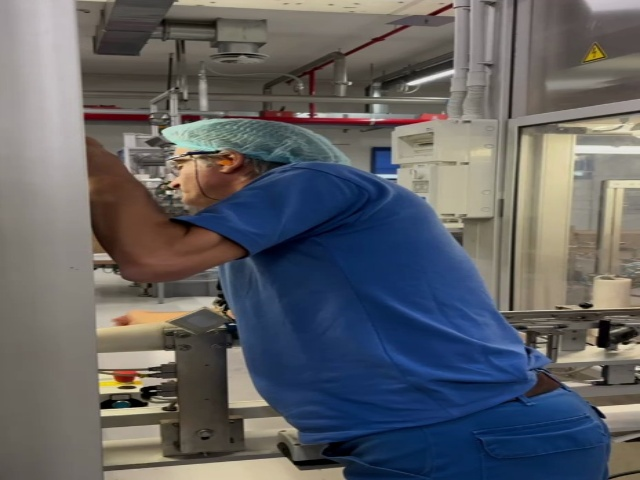Earplug: (211, 151, 245, 176)
Hairnet: (167, 121, 340, 163)
No_Helmet: (163, 120, 337, 151)
No_Vest: (221, 164, 545, 422)
Person: (165, 118, 612, 480)
Safety_Goggles: (161, 148, 241, 173)
